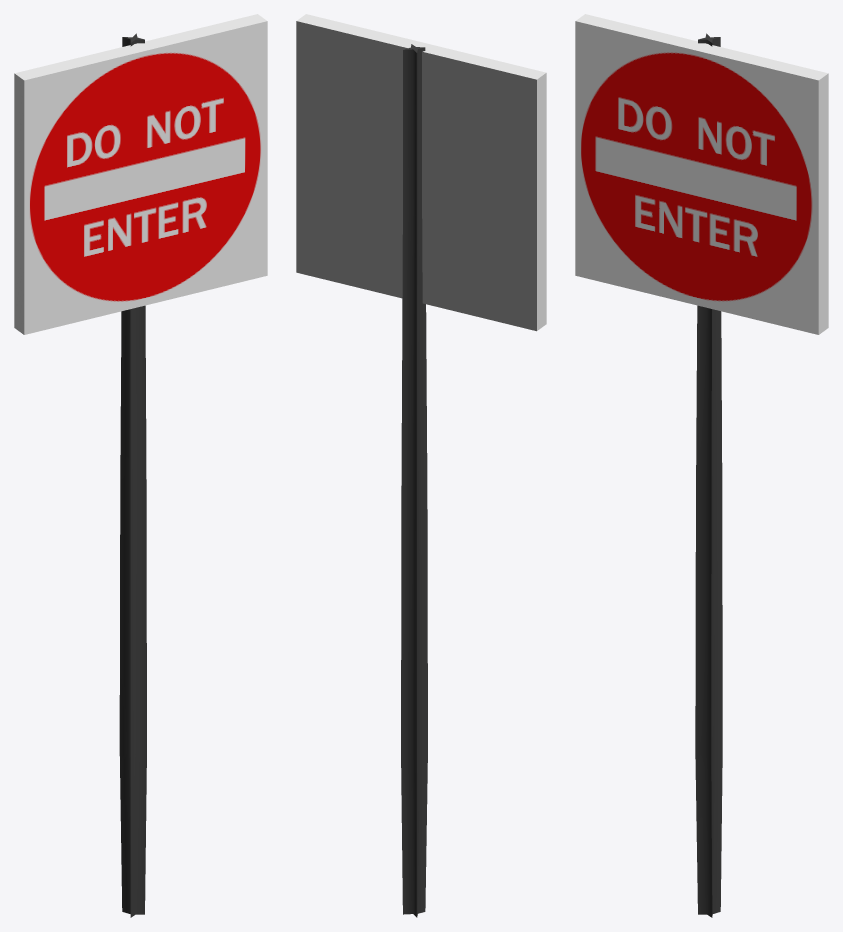
Rendered from DoNotEnterSignAsset.fbx.
3 renders of one model, left to right at view 1: azimuth 30°, elevation 25°; view 2: azimuth 150°, elevation 25°; view 3: azimuth 330°, elevation 25°, orthographic.
Parts seen in each view (by area): view 1: donotennter1; view 2: donotennter1; view 3: donotennter1.
Part boxes in pixels (x1,y1,x2,y2): donotennter1: [14, 14, 267, 917]; donotennter1: [296, 14, 546, 917]; donotennter1: [575, 14, 828, 917].
Bounding box in the file's own units: 69.47 × 239 × 8.9.
